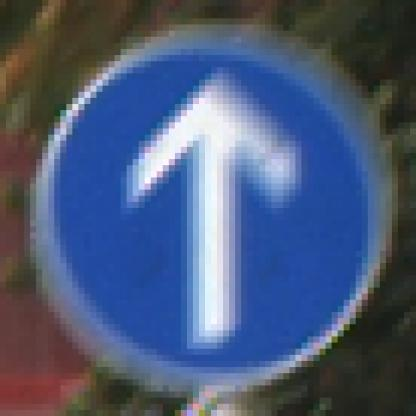AheadOnly: (37, 38, 381, 380)
